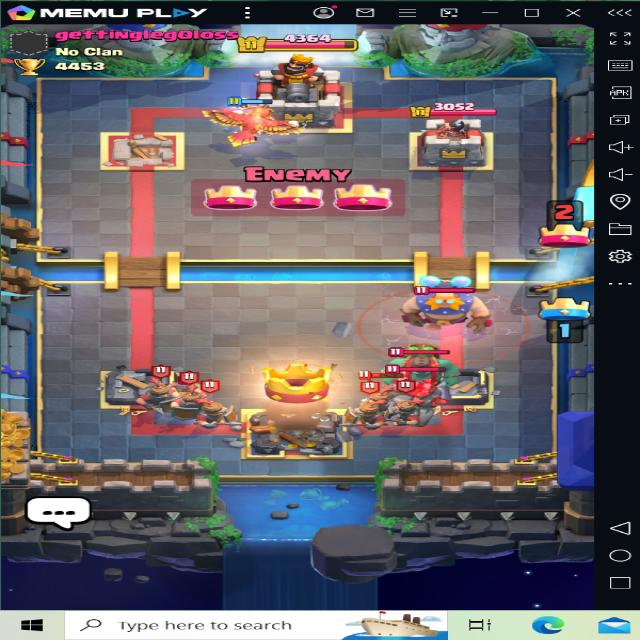Egiant: (399, 275, 493, 332)
Goblingiant: (392, 344, 462, 393)
Royalrecruits: (382, 382, 433, 429), (351, 389, 401, 429), (137, 371, 183, 411), (167, 386, 214, 420), (188, 388, 231, 424)
